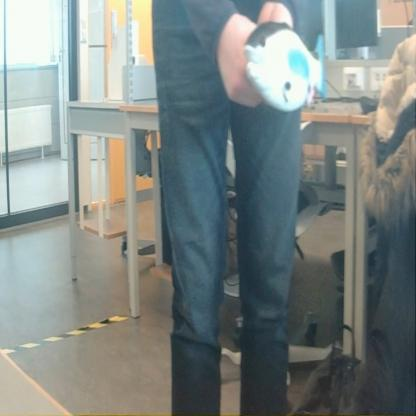rubberfish: (240, 14, 331, 118)
